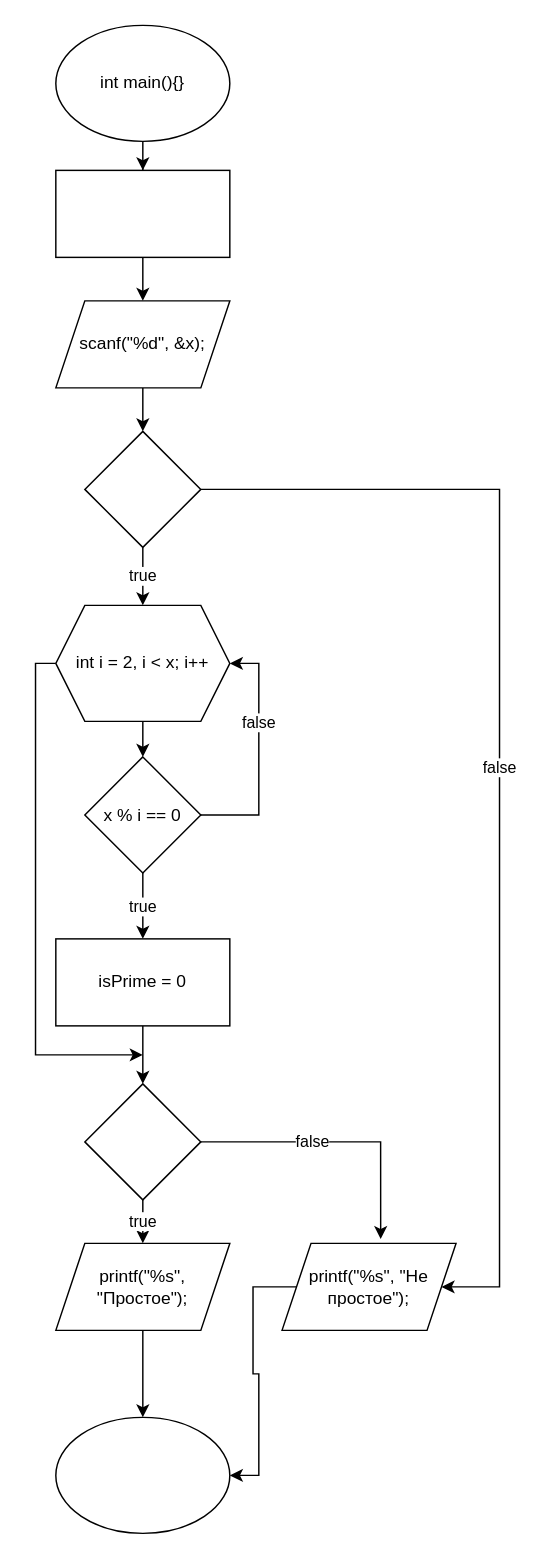
Image size: 541x1559. Some labels were removed from this diagram. The centre of each missing label's shape, as x and y in pixels:
"int x = 0; int isPrime = 1;" belongs at point (142, 213).
"isPrime" belongs at point (142, 1141).
"return 0;" belongs at point (142, 1474).
"x > 1" belongs at point (142, 488).
